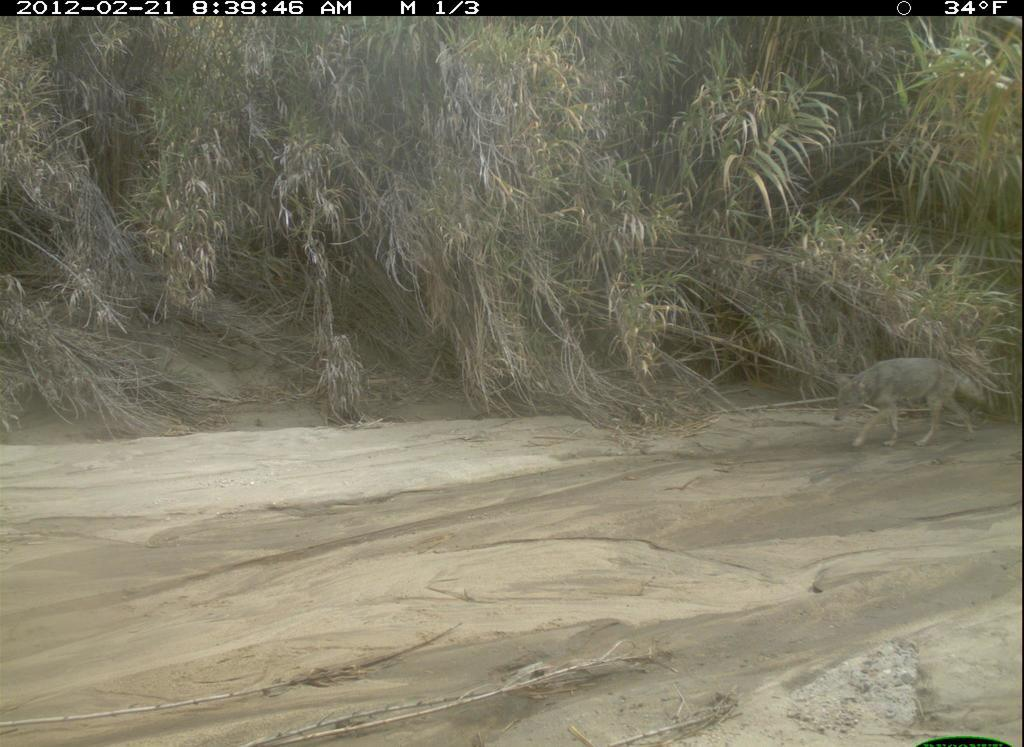coyote: (830, 354, 995, 452)
